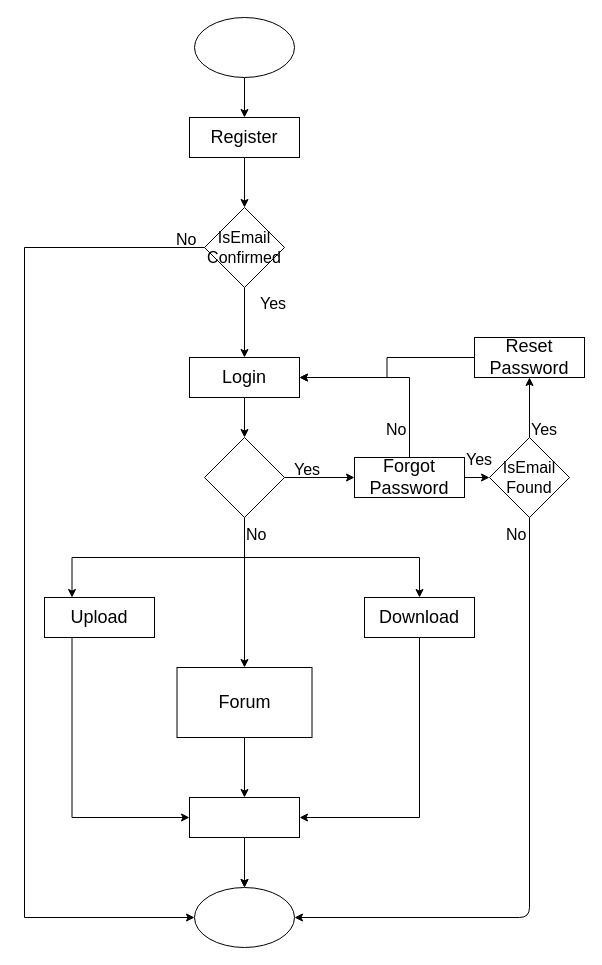
Some shapes in this 602 by 965 pixel diagram are drawn without their labels. Each missing label, with the box of its shape:
End: (194, 886, 294, 948)
IsLocked: (204, 436, 284, 518)
Logout: (188, 796, 300, 838)
Start: (194, 16, 294, 78)
